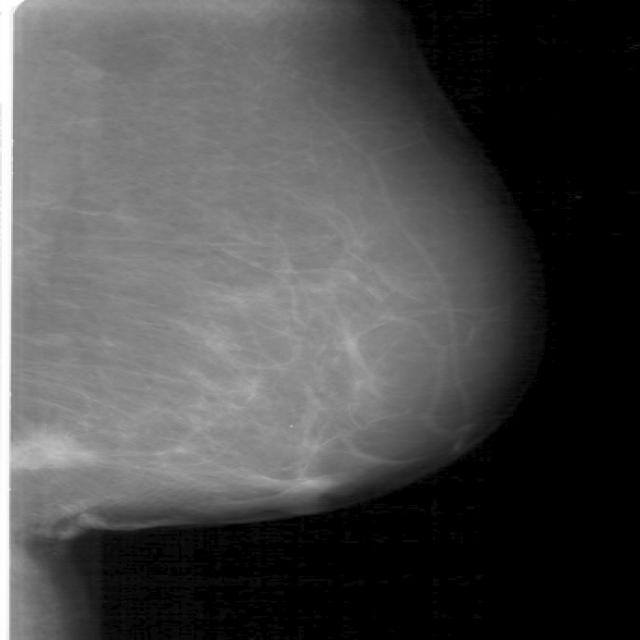tumour: (9, 428, 99, 470)
